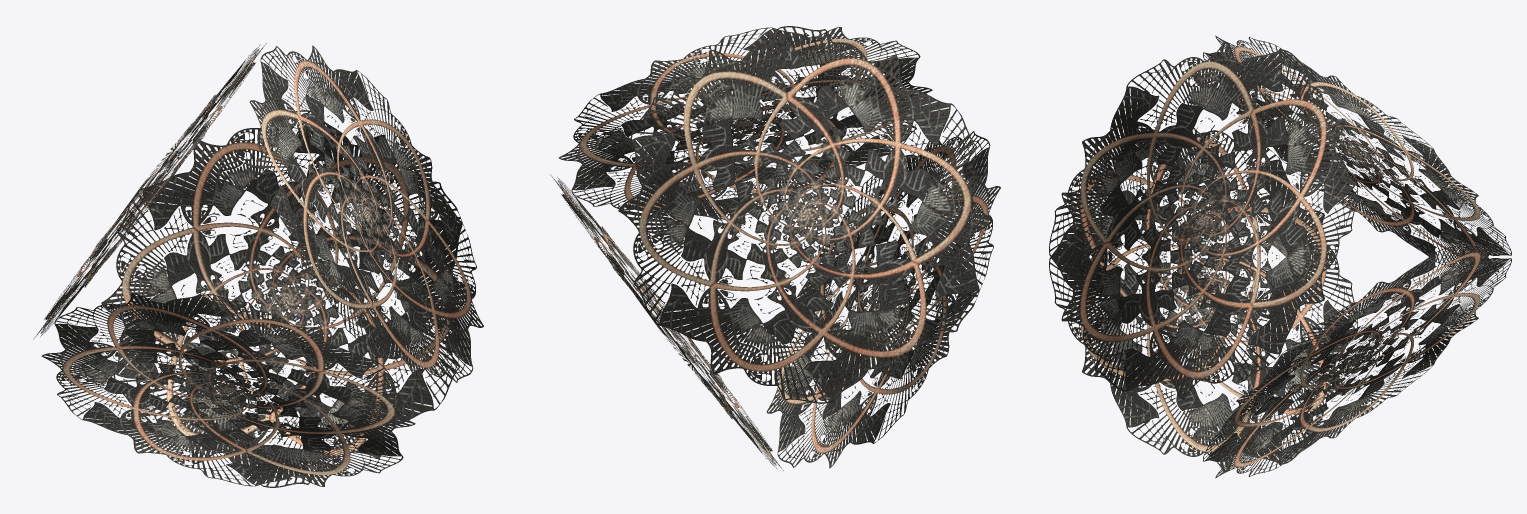
Rendered from TruncatedTetrahedron42.gltf.
The picture shows the model from 3 angles, left to right: view 1: azimuth 30°, elevation 25°; view 2: azimuth 150°, elevation 25°; view 3: azimuth 270°, elevation 25°; orthographic projection.
Visible parts, largest first — view 1: 0TruncatedTetrahedron; view 2: 0TruncatedTetrahedron; view 3: 0TruncatedTetrahedron.
Boxes of the visible parts, x1=… form: 0TruncatedTetrahedron: x1=33, y1=43, x2=483, y2=487; 0TruncatedTetrahedron: x1=550, y1=26, x2=1000, y2=470; 0TruncatedTetrahedron: x1=1049, y1=35, x2=1511, y2=478.
Bounding box in the file's own units: 2.12 × 2.12 × 2.12.
Materials: 1 (1 with a texture image).
